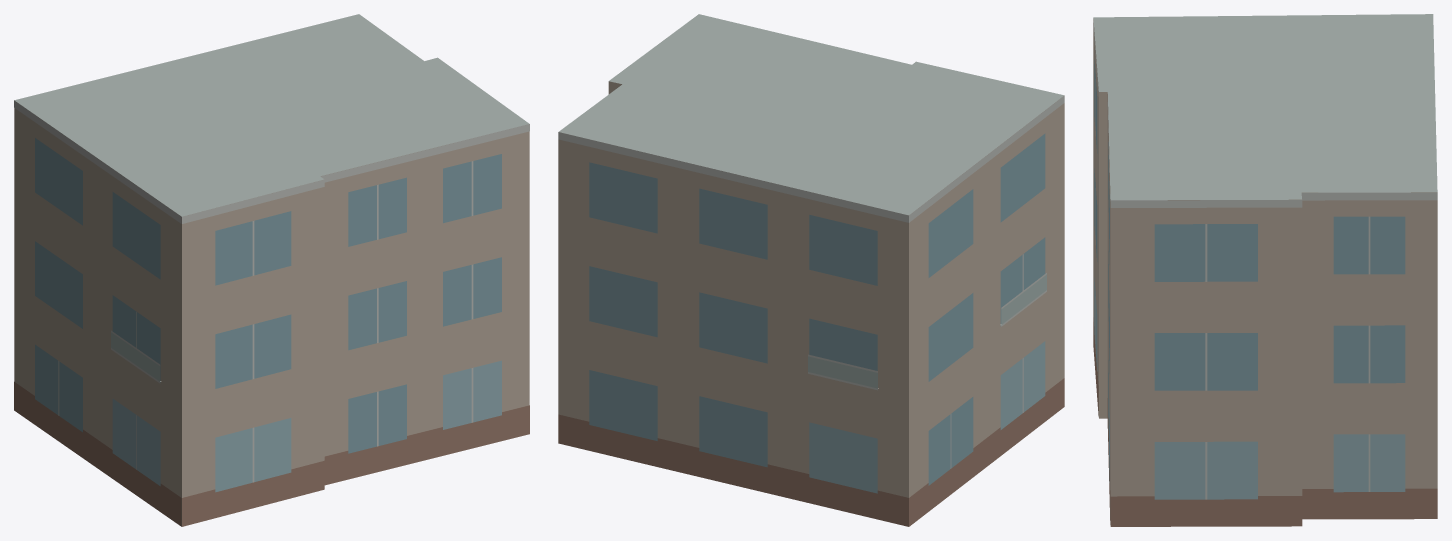
Rendered from survey-upis-32663996.glb.
3 renders of one model, left to right at view 1: azimuth 30°, elevation 25°; view 2: azimuth 150°, elevation 25°; view 3: azimuth 270°, elevation 25°, orthographic. The views are drawn at different scales.
Parts seen in each view (by area): view 1: survey-upis-32663996.tmp; view 2: survey-upis-32663996.tmp; view 3: survey-upis-32663996.tmp.
Part boxes in pixels (x1,y1,x2,y2): survey-upis-32663996.tmp: [14, 14, 529, 526]; survey-upis-32663996.tmp: [558, 14, 1064, 526]; survey-upis-32663996.tmp: [1093, 14, 1437, 526].
Size of the model in its own units: 12.49 by 10.2 by 9.75.
